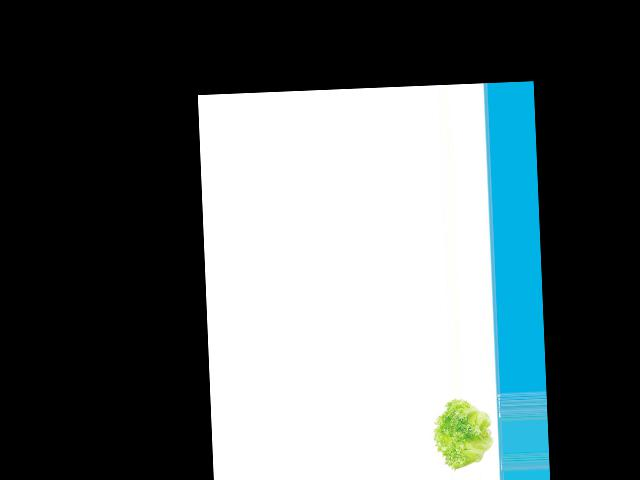lettuce: (430, 397, 498, 469)
